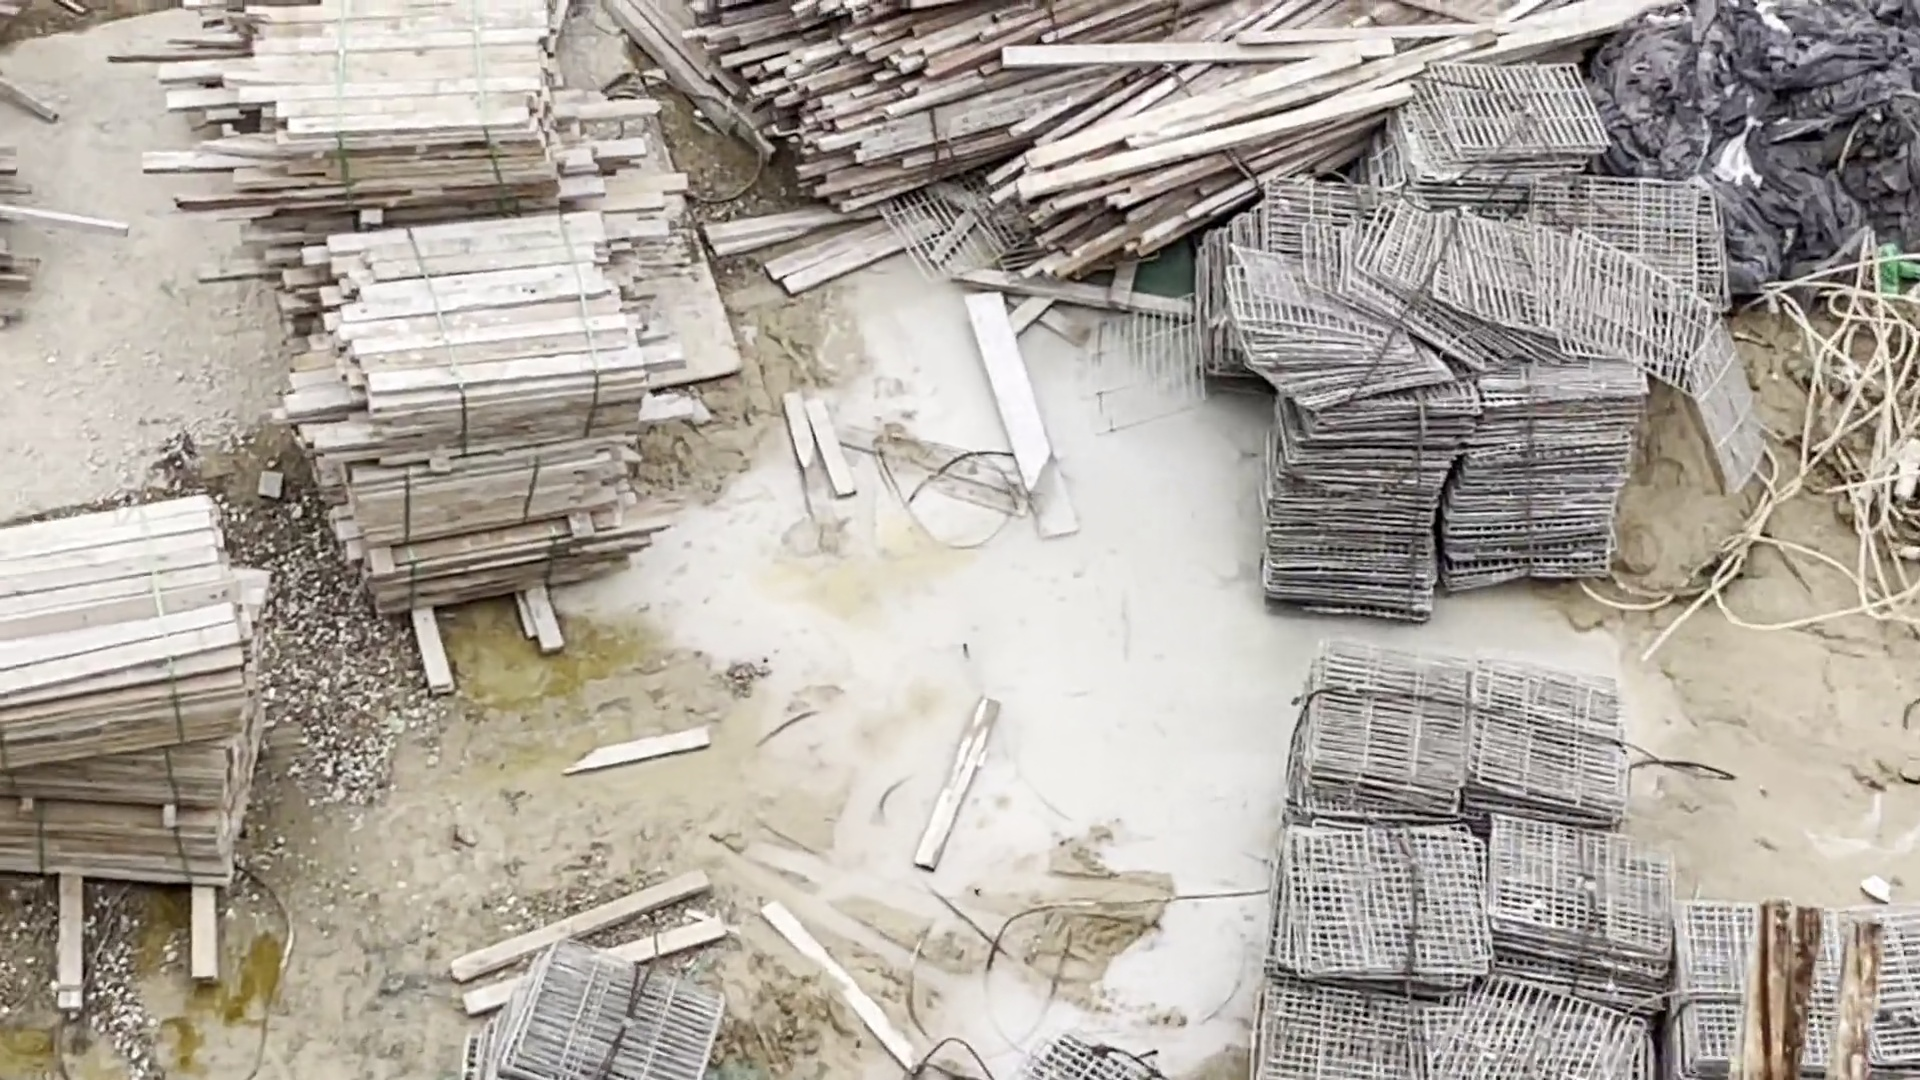wood: (752, 1, 1490, 232), (293, 210, 640, 612), (7, 512, 284, 891), (193, 4, 550, 207)
